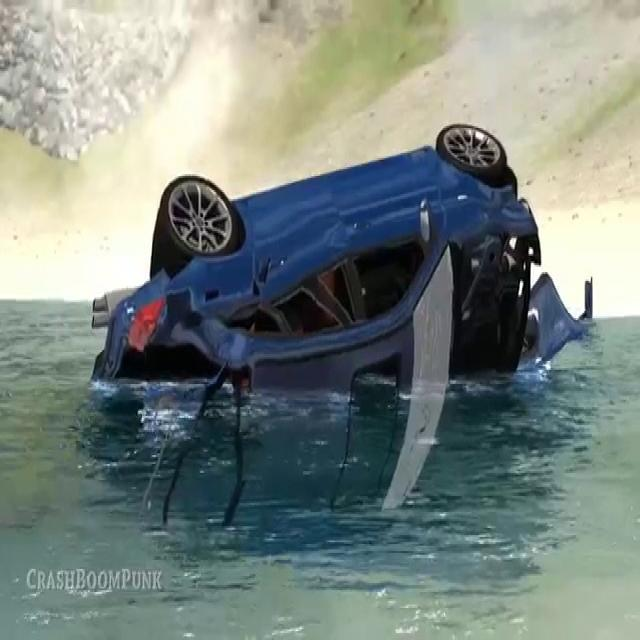severe: (77, 121, 594, 524)
